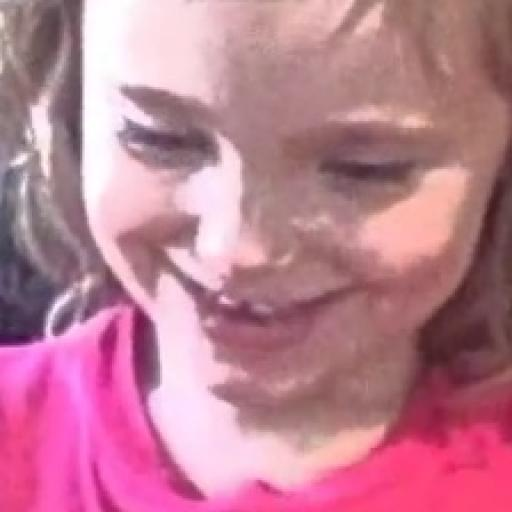Autism: (64, 1, 512, 472)
